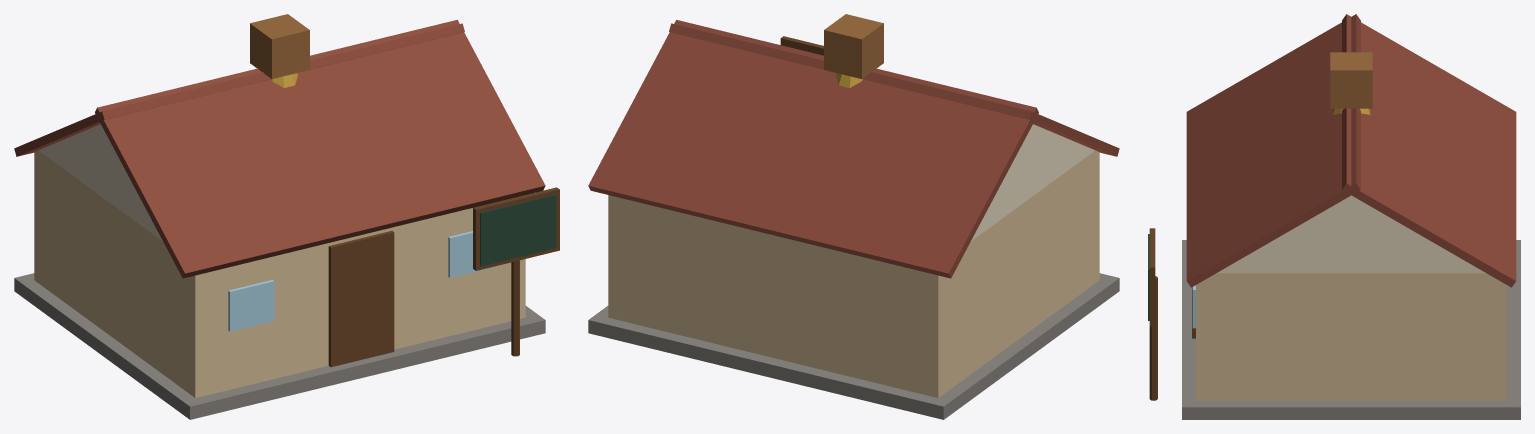
Rendered from School.fbx.
The picture shows the model from 3 angles, left to right: view 1: azimuth 30°, elevation 25°; view 2: azimuth 150°, elevation 25°; view 3: azimuth 270°, elevation 25°; orthographic projection. The views are drawn at different scales.
Visible parts, largest first — view 1: School_Body; view 2: School_Body; view 3: School_Body.
Boxes of the visible parts, x1,y1,x2,y2 form: School_Body: (14,14,559,419); School_Body: (588,14,1119,419); School_Body: (1148,14,1520,419).
Bounding box in the file's own units: 2.84 × 2.15 × 2.64.
